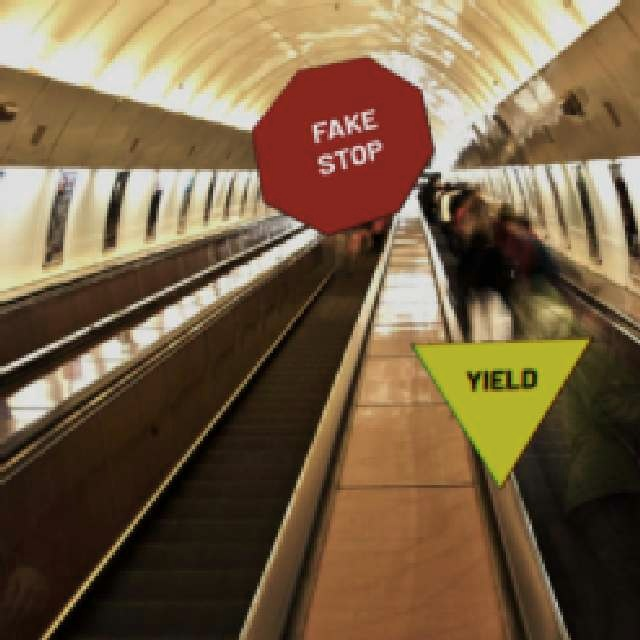FAKE_STOP: (249, 54, 433, 235)
YIELD: (408, 335, 592, 489)
